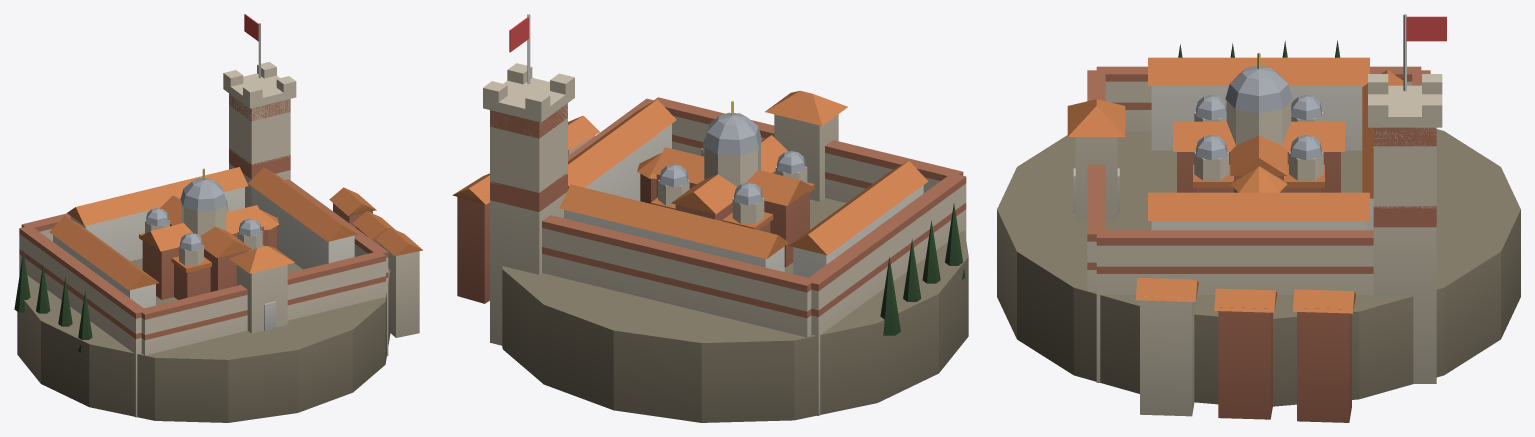
The model's file is abbey_byz_a.glb.
3 views of the same model, side by side, from view 1: azimuth 30°, elevation 25°; view 2: azimuth 150°, elevation 25°; view 3: azimuth 270°, elevation 25° (orthographic). The views are drawn at different scales.
Visible parts, largest first — view 1: abbey_byz_a, Cube.025; view 2: abbey_byz_a, Cube.025; view 3: abbey_byz_a, Cube.025.
Boxes of the visible parts, left/top/right/bottom form: abbey_byz_a: left=14, top=14, right=422, bottom=422; Cube.025: left=229, top=94, right=290, bottom=165; abbey_byz_a: left=452, top=14, right=968, bottom=422; Cube.025: left=490, top=103, right=567, bottom=185; abbey_byz_a: left=997, top=14, right=1520, bottom=422; Cube.025: left=1373, top=127, right=1436, bottom=208.
Size of the model in its own units: 2.15 by 1.5 by 2.
